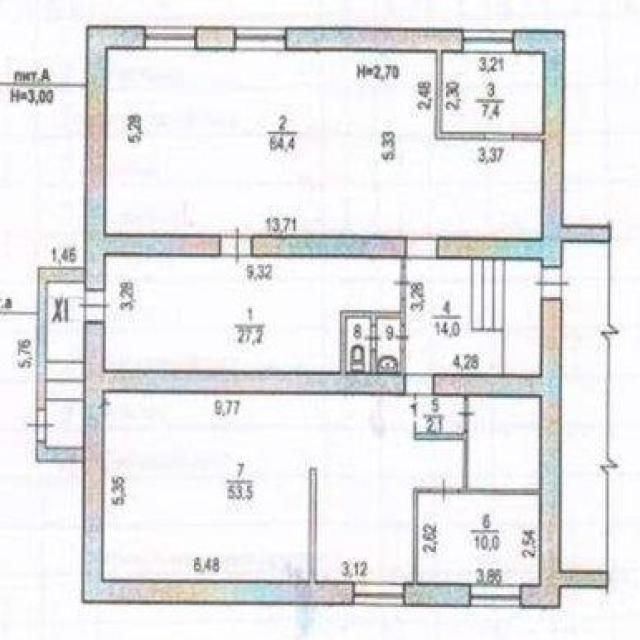Bathrooms: (348, 318, 370, 371), (379, 320, 399, 372)
Corridors: (105, 257, 399, 371), (507, 261, 540, 373)
Doors: (220, 225, 251, 268), (532, 266, 571, 300), (25, 410, 55, 442), (78, 291, 111, 320), (391, 260, 413, 300), (431, 477, 458, 504), (406, 236, 436, 260), (406, 372, 433, 396), (456, 401, 476, 430), (393, 321, 412, 350), (364, 326, 383, 349), (486, 133, 512, 141)
LBwalls: (82, 321, 407, 607), (433, 299, 563, 609), (85, 25, 221, 291), (436, 29, 565, 268), (286, 27, 462, 52), (251, 235, 407, 258), (406, 583, 471, 609), (196, 27, 235, 51)
Offices: (107, 49, 541, 238), (105, 394, 462, 582), (420, 495, 538, 582), (445, 53, 541, 131), (470, 398, 538, 488)
Stairs: (408, 260, 506, 374), (48, 283, 83, 446)
Walls: (414, 431, 537, 496), (35, 266, 83, 409), (434, 50, 486, 140), (339, 309, 402, 372), (412, 488, 432, 583), (35, 442, 83, 466), (308, 467, 318, 579), (560, 569, 608, 589), (563, 225, 609, 240), (512, 131, 541, 140), (370, 348, 376, 372), (400, 350, 406, 371), (401, 300, 405, 320), (463, 395, 469, 402)
Windows: (462, 28, 515, 54), (144, 25, 198, 50), (233, 27, 287, 52), (353, 582, 406, 607), (470, 584, 521, 607)
